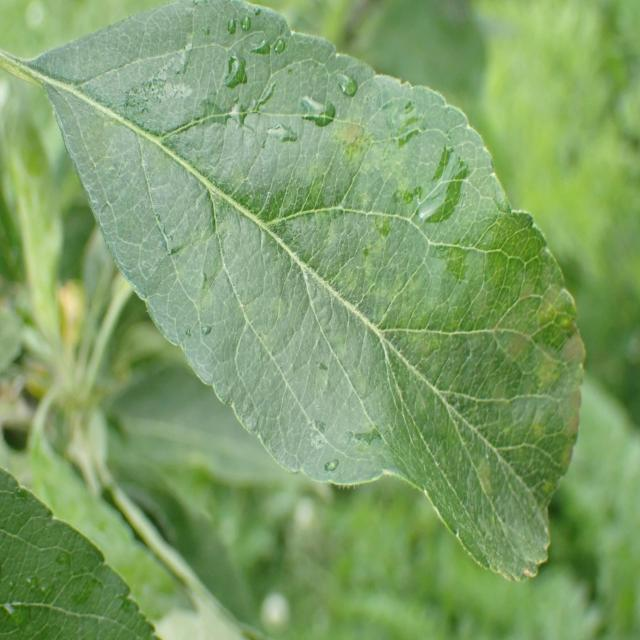scab: (96, 63, 584, 574)
